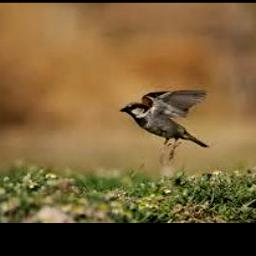Sparrow: (121, 90, 210, 165)
